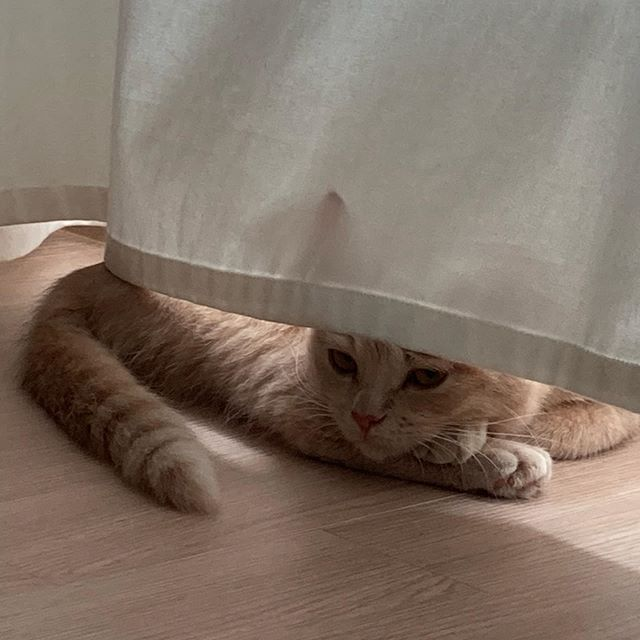cat: (300, 315, 520, 461)
